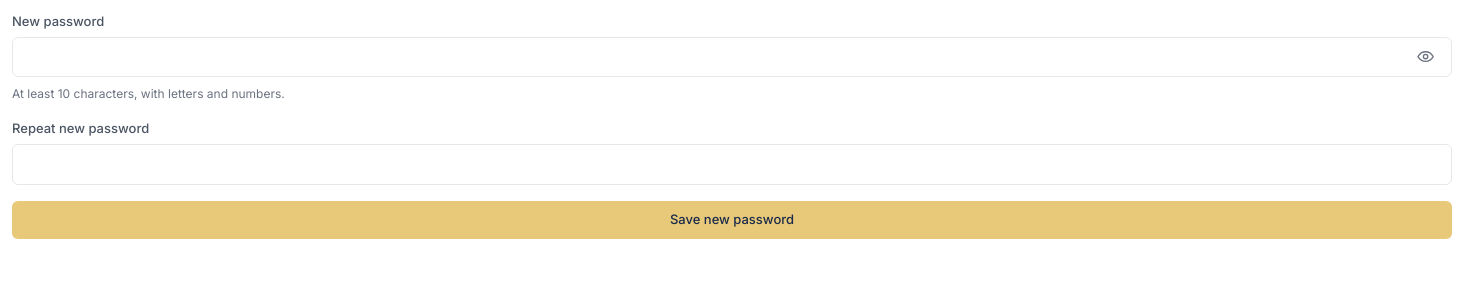
NewPasswordForm › shows both passwords on request and shows Supabase's refusal in red
The width and height of the screenshot is (1464, 291).
Click the button named "Show passwords".
click(1426, 57)  # box [1410,41,1442,73]
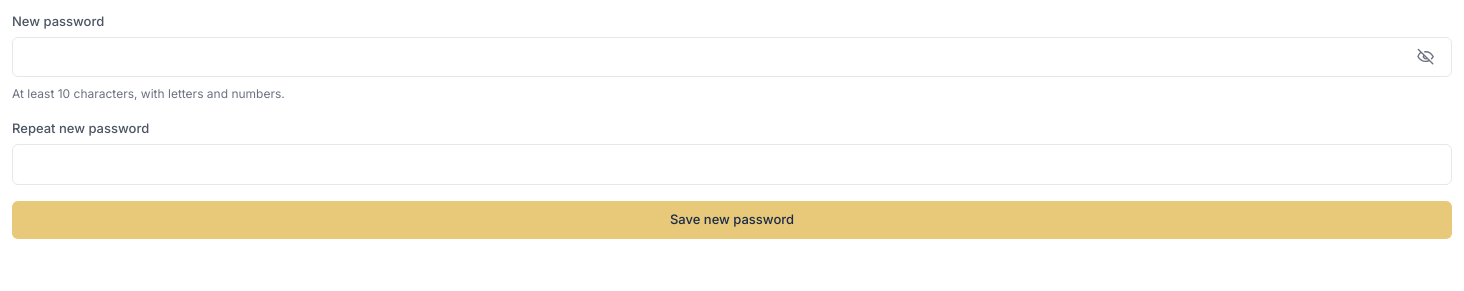
Type "same-as-before-1" into the field labelled "New password".
click(732, 57); type("same-as-before-1")  # box [12,37,1452,77]
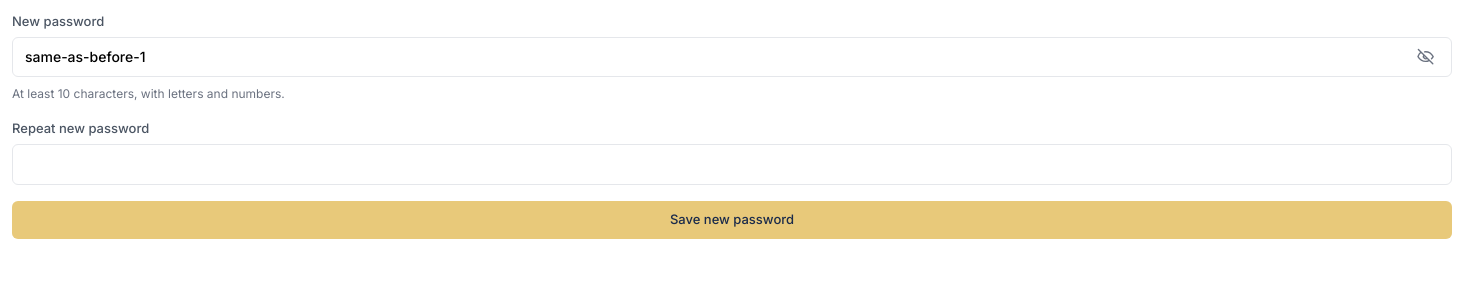
Type "same-as-before-1" into the field labelled "Repeat new password".
click(732, 164); type("same-as-before-1")  # box [12,144,1452,185]
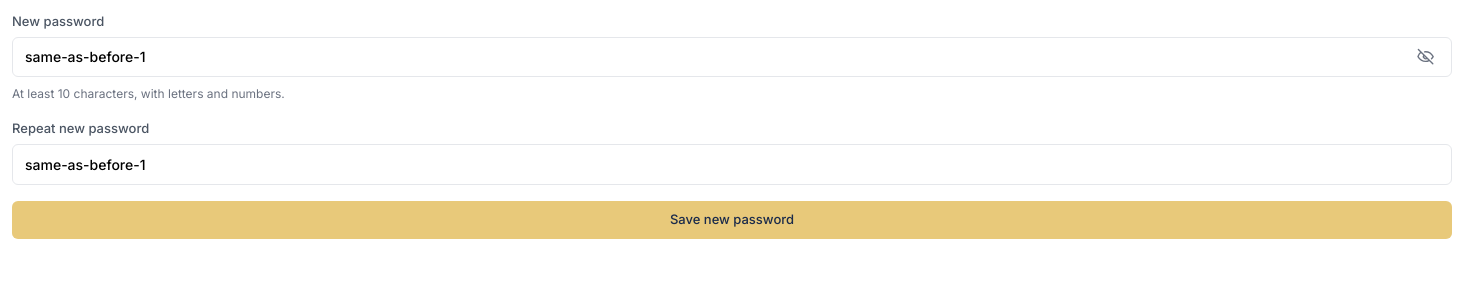
Click the button "Save new password".
click(732, 220)  # box [12,201,1452,239]
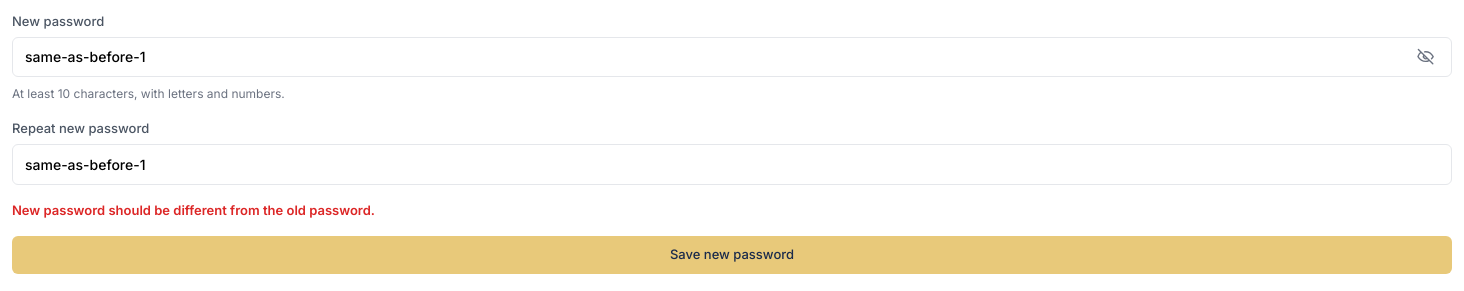
Expected: the message reads "New password should be different from the old password.", [12,202,375,218]
